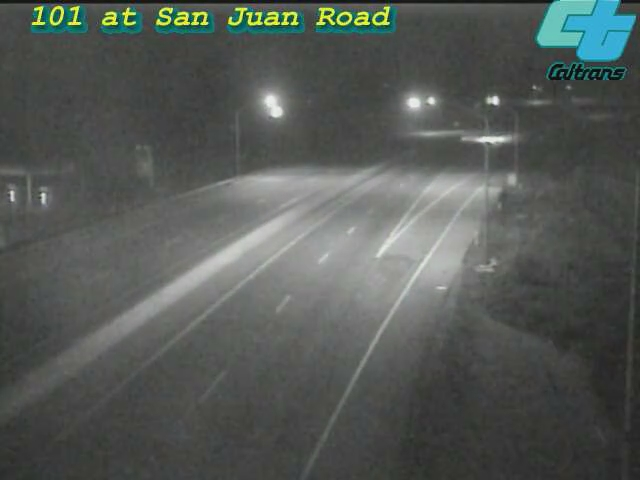vehicle: (463, 115, 513, 165)
